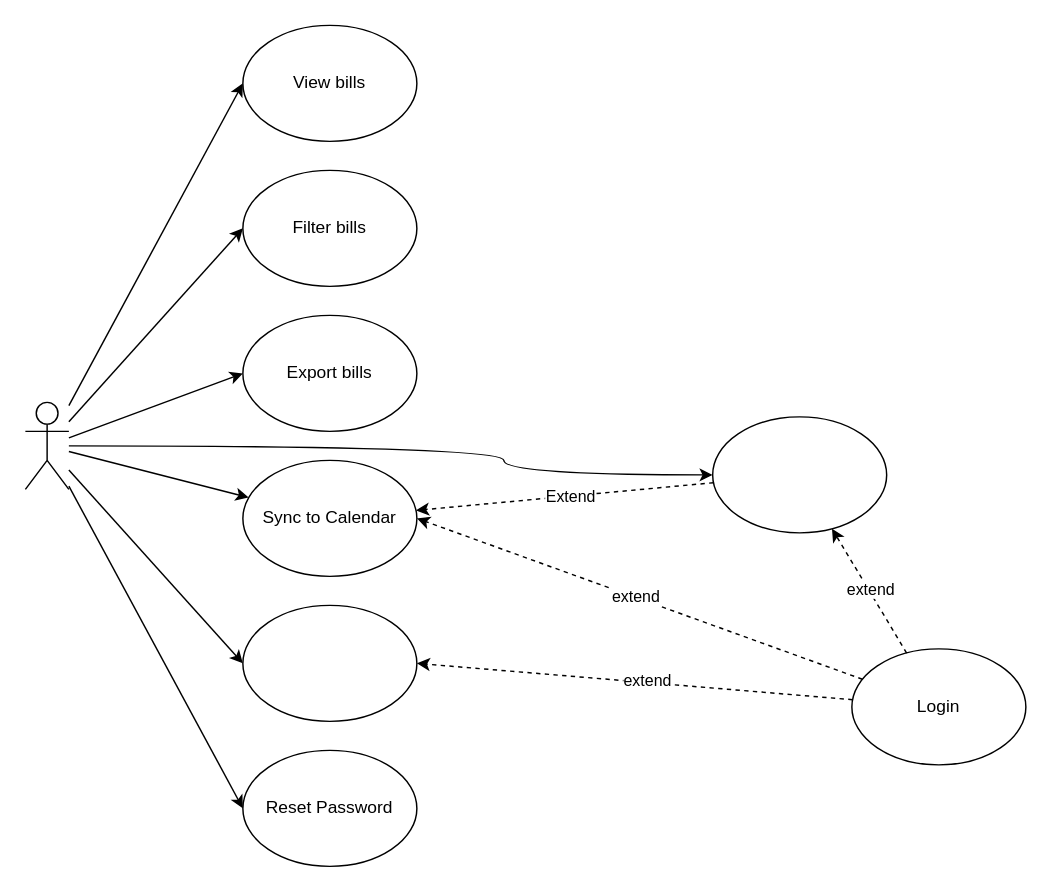
This 1051x892 diagram has some shape labels left out. Here are the shapes that lost their labels. From the top down, the box of each, then its label:
(24, 401, 69, 489): User
(711, 415, 887, 533): Mark bills
(241, 604, 417, 721): Write notes
